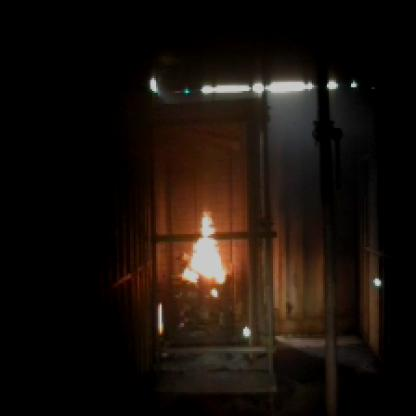Fire: (180, 200, 236, 302)
